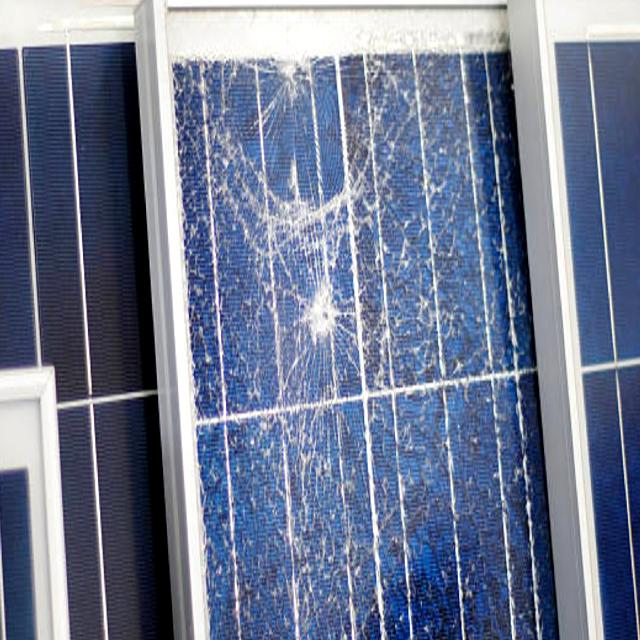hotspot: (234, 35, 382, 204), (263, 267, 376, 366)
